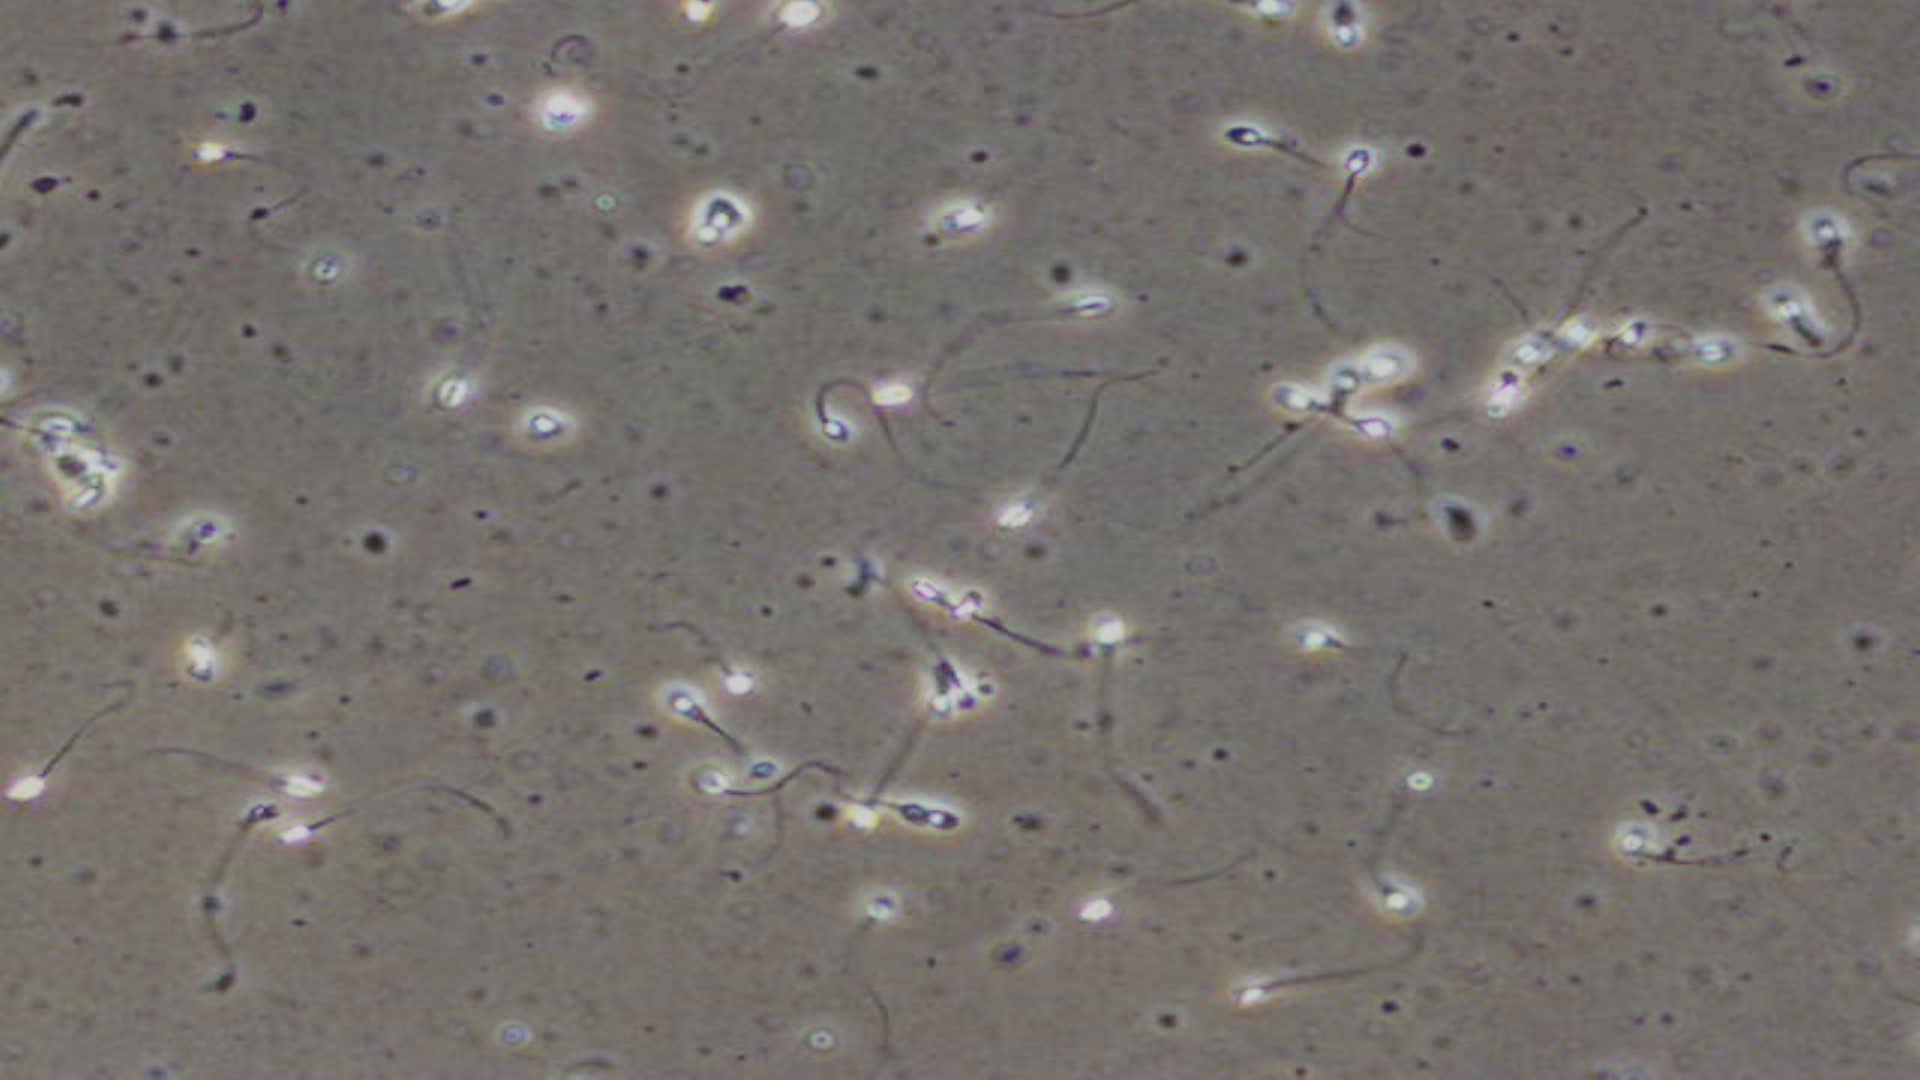sperm: (1211, 953, 1396, 1023), (1796, 203, 1873, 342), (659, 611, 764, 700), (997, 444, 1089, 542), (7, 720, 107, 810), (799, 371, 897, 460), (986, 295, 1134, 349), (1290, 613, 1395, 688), (654, 688, 749, 764), (278, 802, 421, 848), (193, 756, 327, 804), (1323, 150, 1393, 239), (1354, 827, 1425, 913), (913, 579, 1010, 638), (1207, 121, 1311, 173), (193, 136, 311, 181), (1270, 382, 1349, 426), (915, 651, 957, 732), (890, 795, 971, 836), (1327, 415, 1410, 452)
